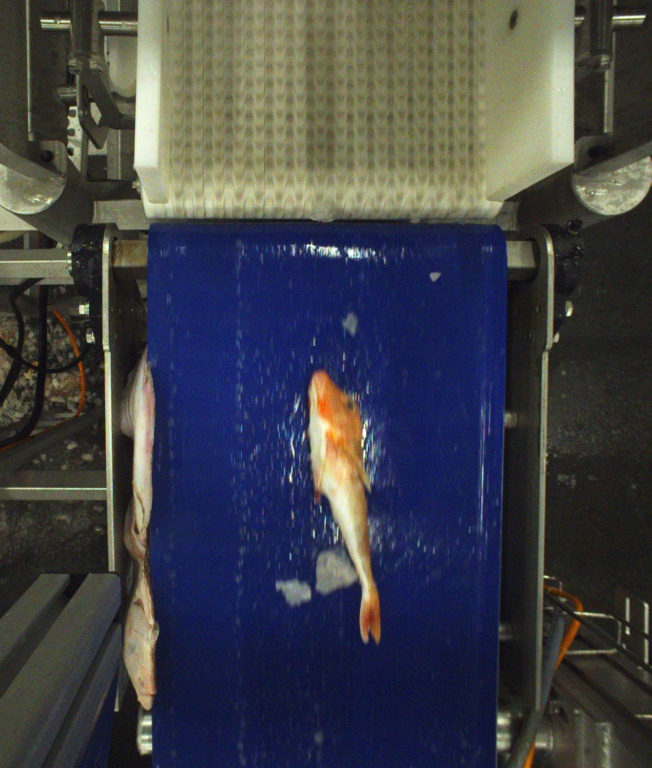GUU: (307, 370, 384, 642)
